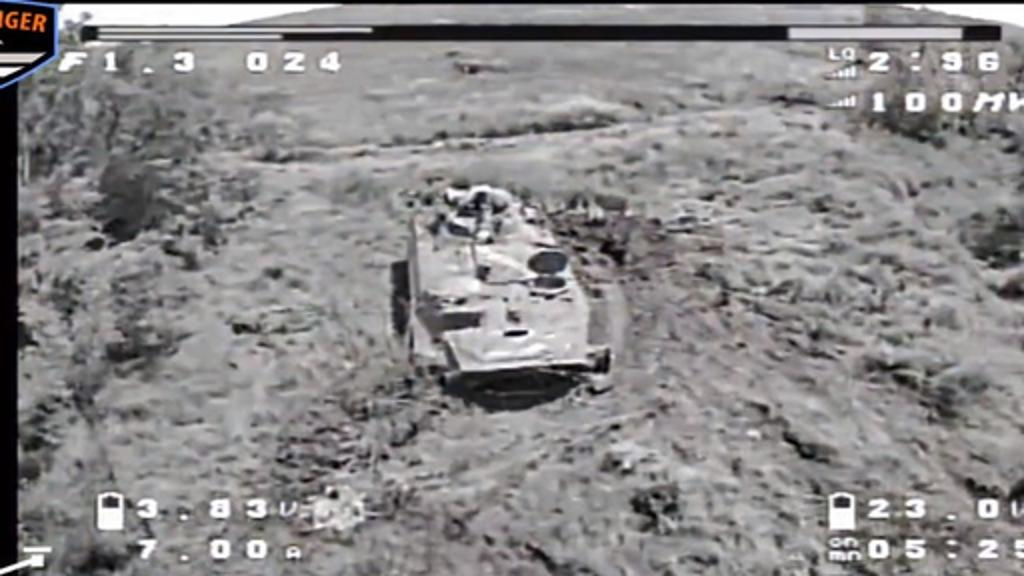APC-IFV: (382, 168, 624, 404)
